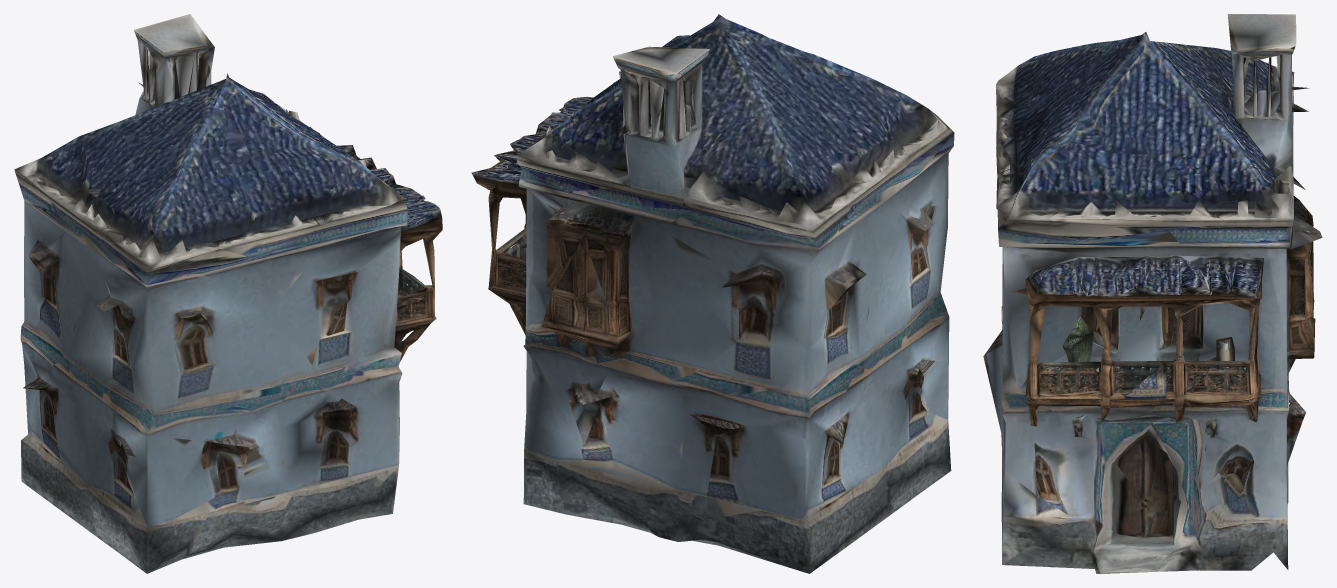
File: house_merchant_0.glb
The picture shows the model from 3 angles, left to right: view 1: azimuth 30°, elevation 25°; view 2: azimuth 150°, elevation 25°; view 3: azimuth 270°, elevation 25°; orthographic projection. The views are drawn at different scales.
Visible parts, largest first — view 1: tripo_node_e8c3637a-7642-41ce-a474-6af97cdf0c9b; view 2: tripo_node_e8c3637a-7642-41ce-a474-6af97cdf0c9b; view 3: tripo_node_e8c3637a-7642-41ce-a474-6af97cdf0c9b.
Part boxes in pixels (x1,y1,x2,y2): tripo_node_e8c3637a-7642-41ce-a474-6af97cdf0c9b: (14,14,442,573); tripo_node_e8c3637a-7642-41ce-a474-6af97cdf0c9b: (471,14,954,573); tripo_node_e8c3637a-7642-41ce-a474-6af97cdf0c9b: (983,14,1322,573).
Size of the model in its own units: 0.7601 by 0.9274 by 0.5927.
Materials: 1 (1 with a texture image).
